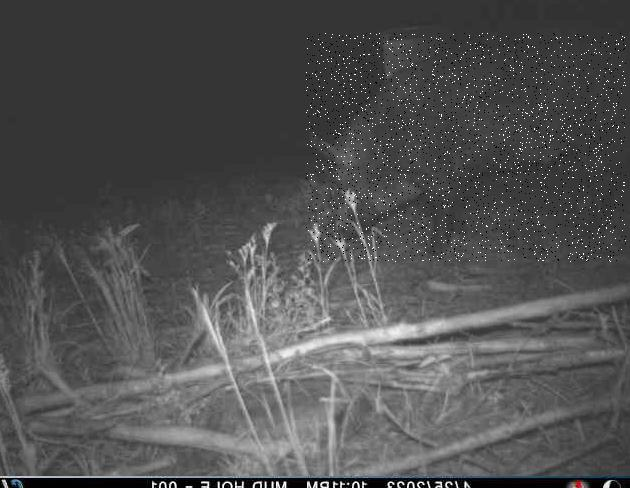Hog: (305, 33, 625, 262)
